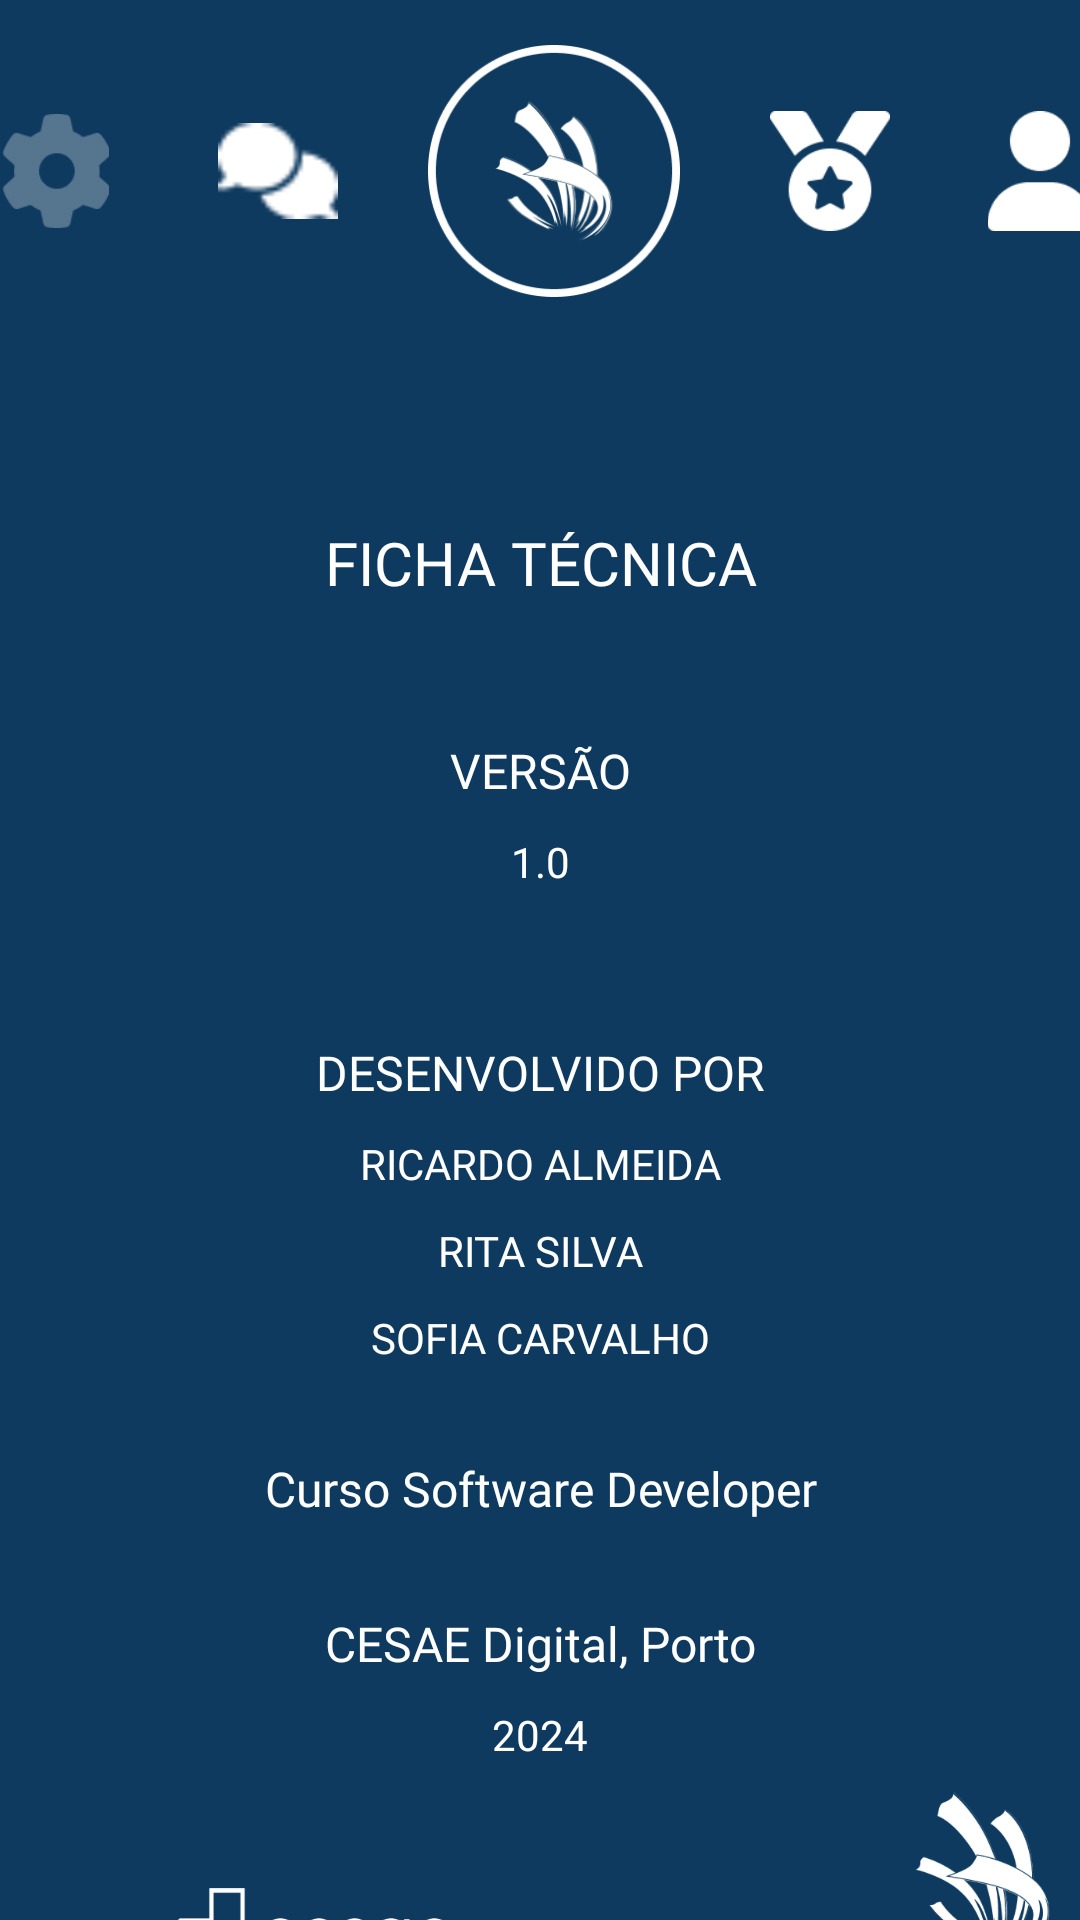

Screen size 1080px×1920px. Icon name, then its box in pixels as rect(x1, y1, x2, y2):
badges: rect(770, 111, 890, 231)
chat: rect(218, 123, 338, 219)
